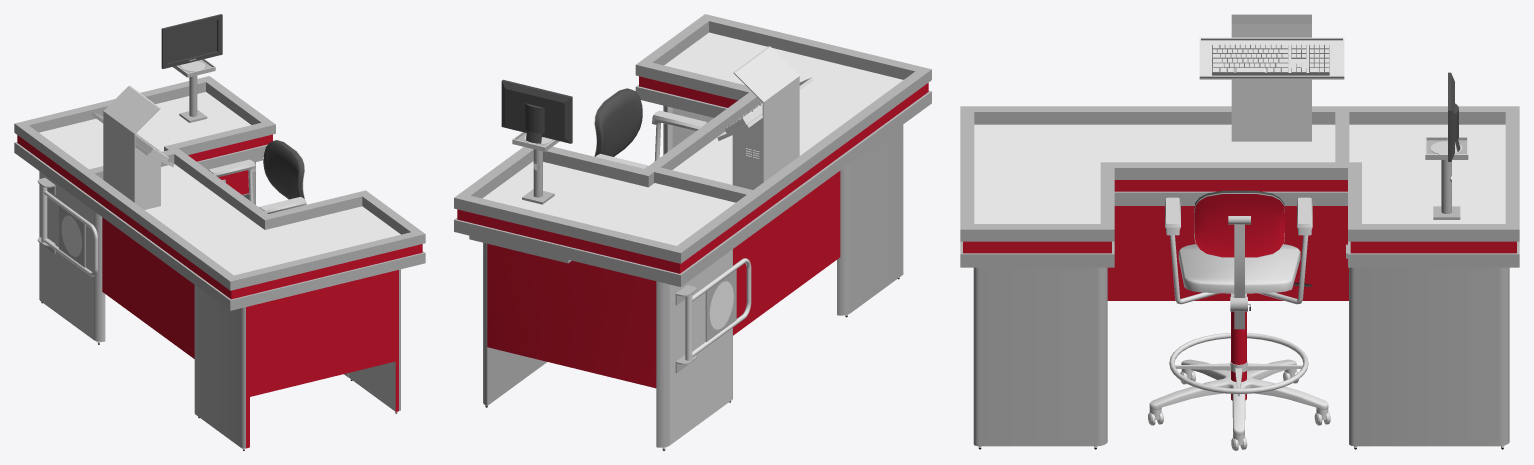
Rendered from 3d-modelcashier.fbx.
3 views of the same model, side by side, from view 1: azimuth 30°, elevation 25°; view 2: azimuth 150°, elevation 25°; view 3: azimuth 270°, elevation 25° (orthographic). The views are drawn at different scales.
Visible parts, largest first — view 1: Layer0_001, Group_011, Group_007, Group_570, Group_001, Group_009, Group_576, Group_575; view 2: Layer0_001, Group_011, Group_007, Group_570, Group_001, Group_009, Group_575, Group_005, Group_004, Group_003; view 3: Layer0_001, Group_011, Group_570, Group_572, Group_578, Group_579, Group_582, Group_009, Group_574, Group_577, Group_580, Group_007 (+3 smaller).
Part boxes in pixels (left/top/right/bottom): Layer0_001: left=14, top=76, right=425, bottom=448; Group_011: left=91, top=85, right=174, bottom=209; Group_007: left=161, top=14, right=222, bottom=68; Group_570: left=263, top=140, right=304, bottom=199; Group_001: left=59, top=205, right=85, bottom=267; Group_009: left=173, top=59, right=215, bottom=122; Group_576: left=208, top=159, right=256, bottom=176; Group_575: left=259, top=197, right=306, bottom=213; Layer0_001: left=454, top=14, right=931, bottom=447; Group_011: left=717, top=46, right=813, bottom=189; Group_007: left=501, top=79, right=572, bottom=143; Group_570: left=595, top=88, right=642, bottom=156; Group_001: left=705, top=269, right=736, bottom=341; Group_009: left=512, top=132, right=559, bottom=204; Group_575: left=652, top=110, right=706, bottom=130; Group_005: left=685, top=294, right=692, bottom=360; Group_004: left=692, top=258, right=751, bottom=301; Group_003: left=692, top=285, right=751, bottom=356; Layer0_001: left=960, top=106, right=1519, bottom=446; Group_011: left=1199, top=14, right=1344, bottom=141; Group_570: left=1194, top=190, right=1284, bottom=257; Group_572: left=1178, top=244, right=1300, bottom=292; Group_578: left=1149, top=359, right=1328, bottom=435; Group_579: left=1228, top=216, right=1311, bottom=400; Group_582: left=1169, top=333, right=1308, bottom=393; Group_009: left=1425, top=137, right=1468, bottom=219; Group_574: left=1170, top=235, right=1308, bottom=304; Group_577: left=1148, top=369, right=1330, bottom=450; Group_580: left=1175, top=360, right=1302, bottom=396; Group_007: left=1448, top=72, right=1460, bottom=161.
Size of the model in its own units: 41.14 by 53.97 by 78.88.
